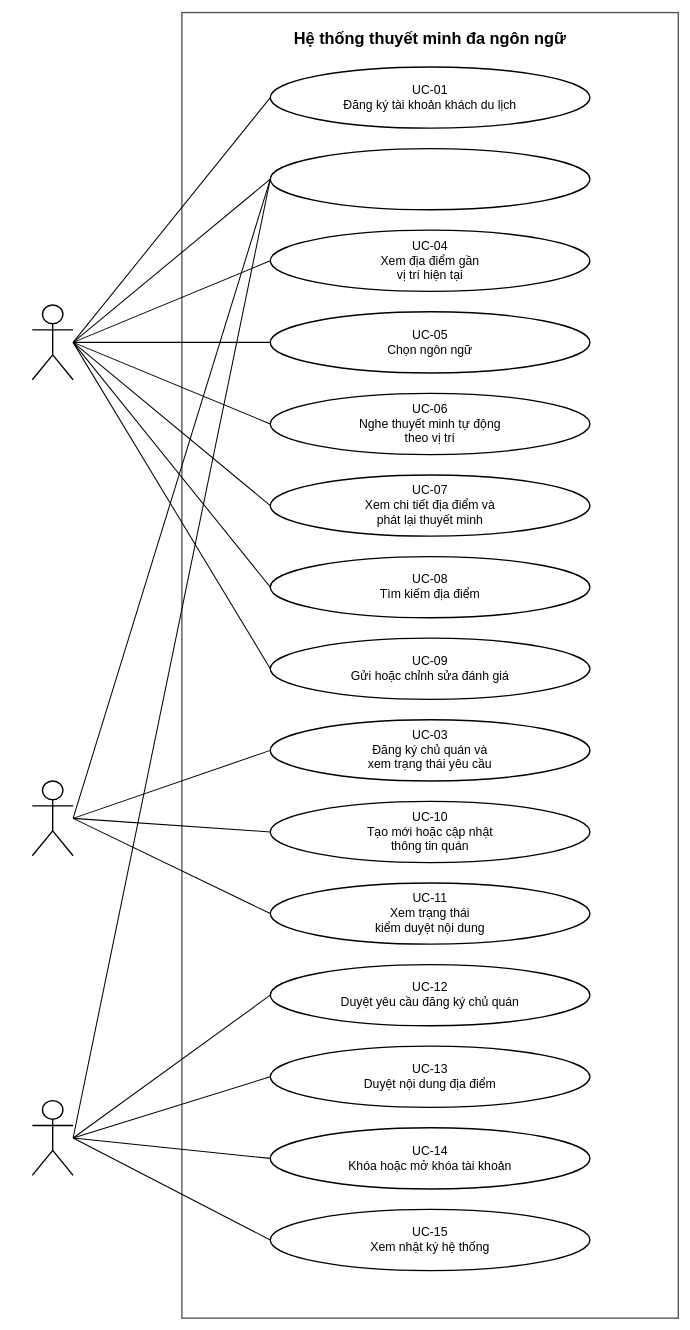
The diagram is 690 pixels wide and 1330 high, and some of its shapes have lost their labels. Each missing label, with the centre of its shape:
"Chủ quán" belongs at (52,818).
"Khách du lịch" belongs at (52,342).
"Quản trị viên" belongs at (52,1138).
"UC-02 Đăng nhập" belongs at (429,179).
